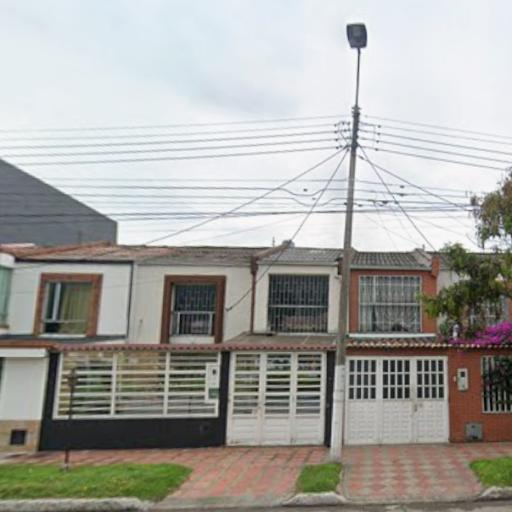poste: (311, 6, 383, 474)
